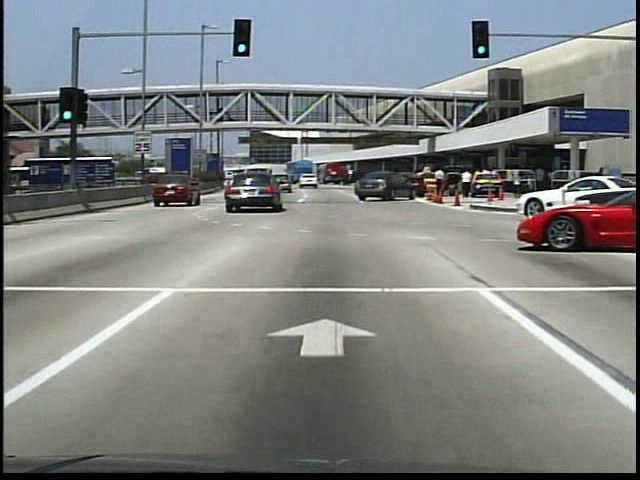person: (433, 168, 450, 204), (510, 172, 525, 207), (458, 171, 474, 202), (533, 168, 545, 193), (216, 108, 225, 127)
